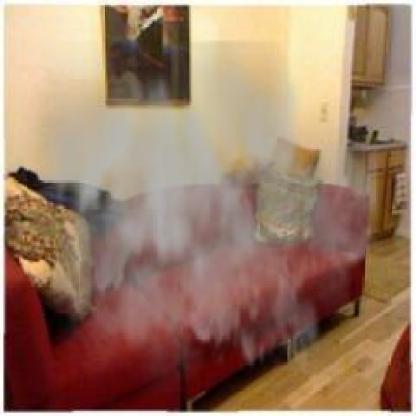Smoke: (18, 41, 377, 408)
